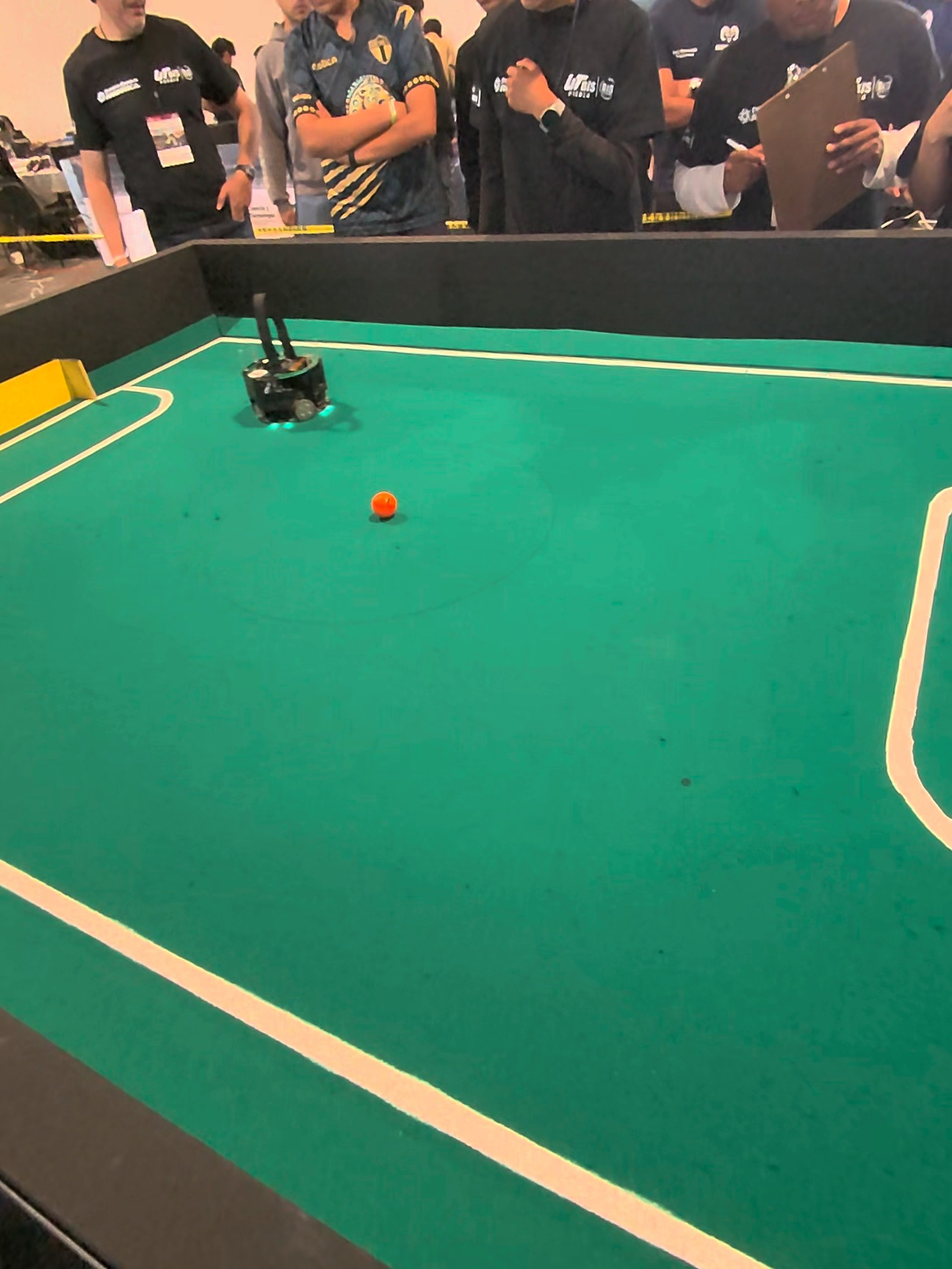Robot: (238, 286, 341, 436)
